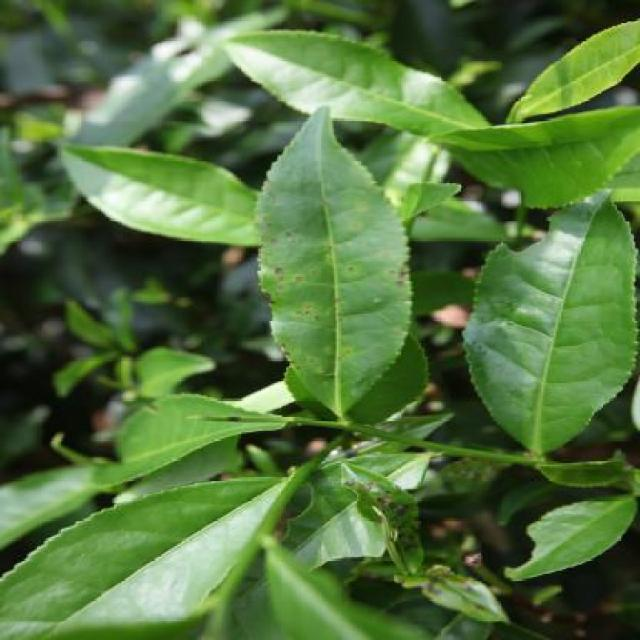Tea Mosquito bug infested leaf: (228, 103, 420, 411)
